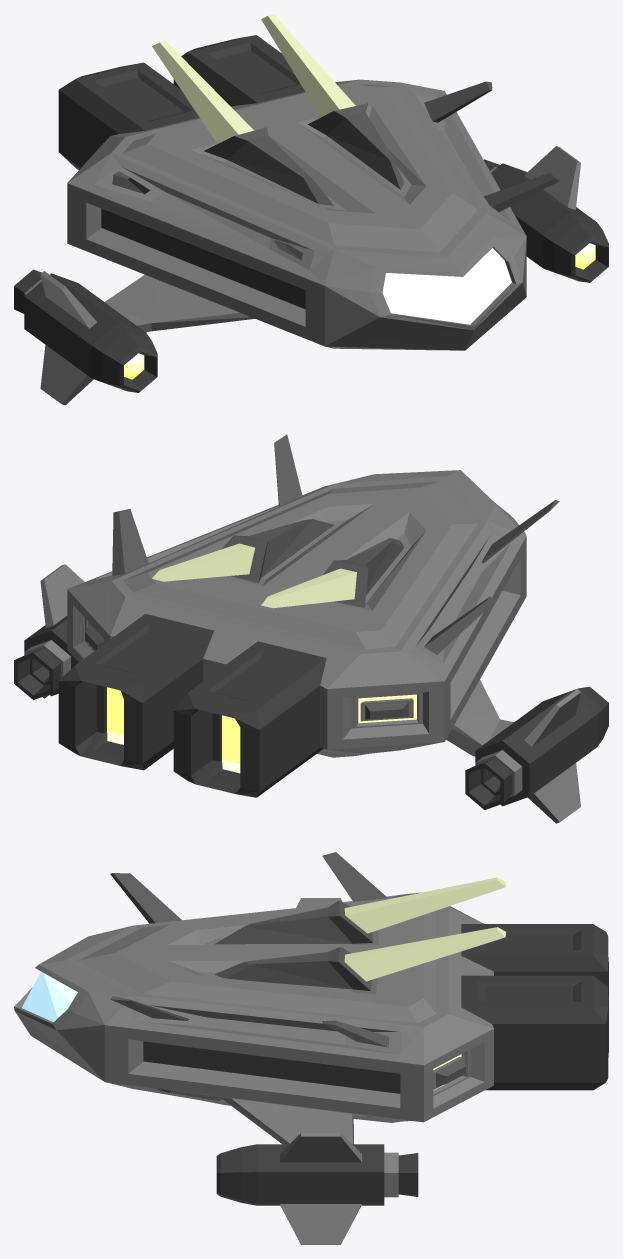
File: LPSP_LuxuryShip_fixed.gltf
3 renders of one model, top to bottom at view 1: azimuth 30°, elevation 25°; view 2: azimuth 150°, elevation 25°; view 3: azimuth 270°, elevation 25°, orthographic. The views are drawn at different scales.
Visible parts, largest first — view 1: Cube.002; view 2: Cube.002; view 3: Cube.002.
Boxes of the visible parts, left/top/right/bottom form: Cube.002: left=14, top=14, right=608, bottom=405; Cube.002: left=14, top=434, right=608, bottom=823; Cube.002: left=14, top=852, right=608, bottom=1244.
Bounding box in the file's own units: 8.74 × 3.83 × 9.22.
Materials: 2 (1 with a texture image).
